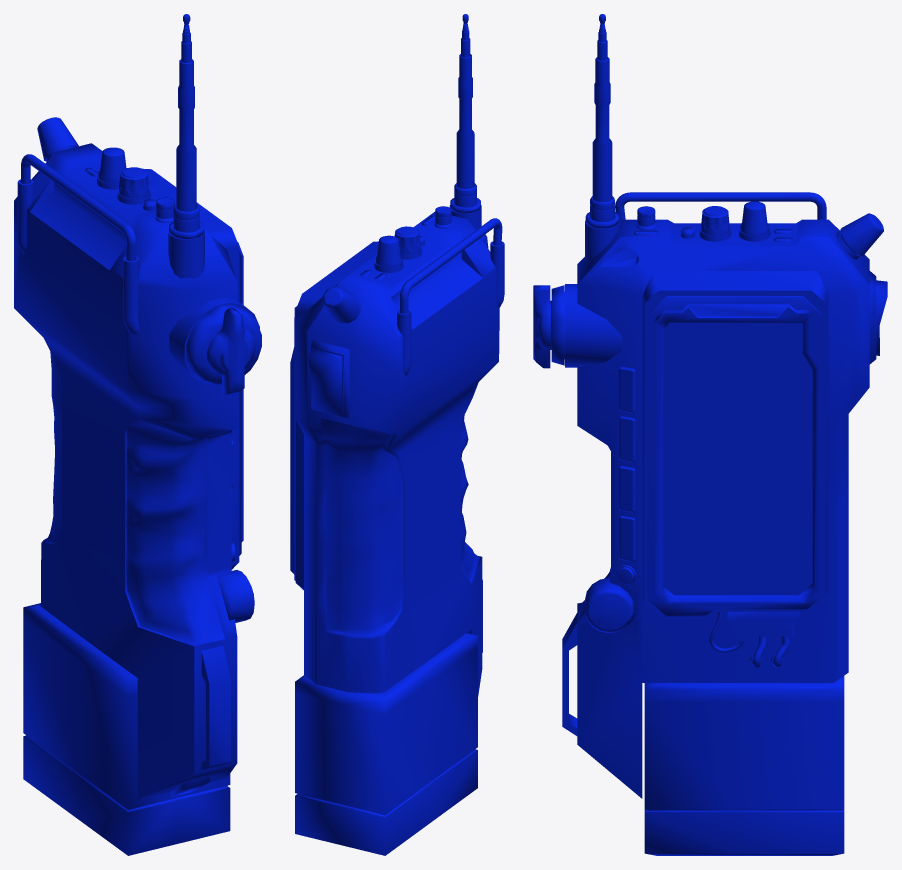
File: Commu.fbx
The picture shows the model from 3 angles, left to right: view 1: azimuth 30°, elevation 25°; view 2: azimuth 150°, elevation 25°; view 3: azimuth 270°, elevation 25°; orthographic projection. The views are drawn at different scales.
Visible parts, largest first — view 1: Commutator_low; view 2: Commutator_low; view 3: Commutator_low.
Boxes of the visible parts, left/top/right/bottom form: Commutator_low: left=14, top=14, right=261, bottom=855; Commutator_low: left=290, top=14, right=504, bottom=855; Commutator_low: left=533, top=14, right=887, bottom=855.
Size of the model in its own units: 7.76 by 46.57 by 18.24.
